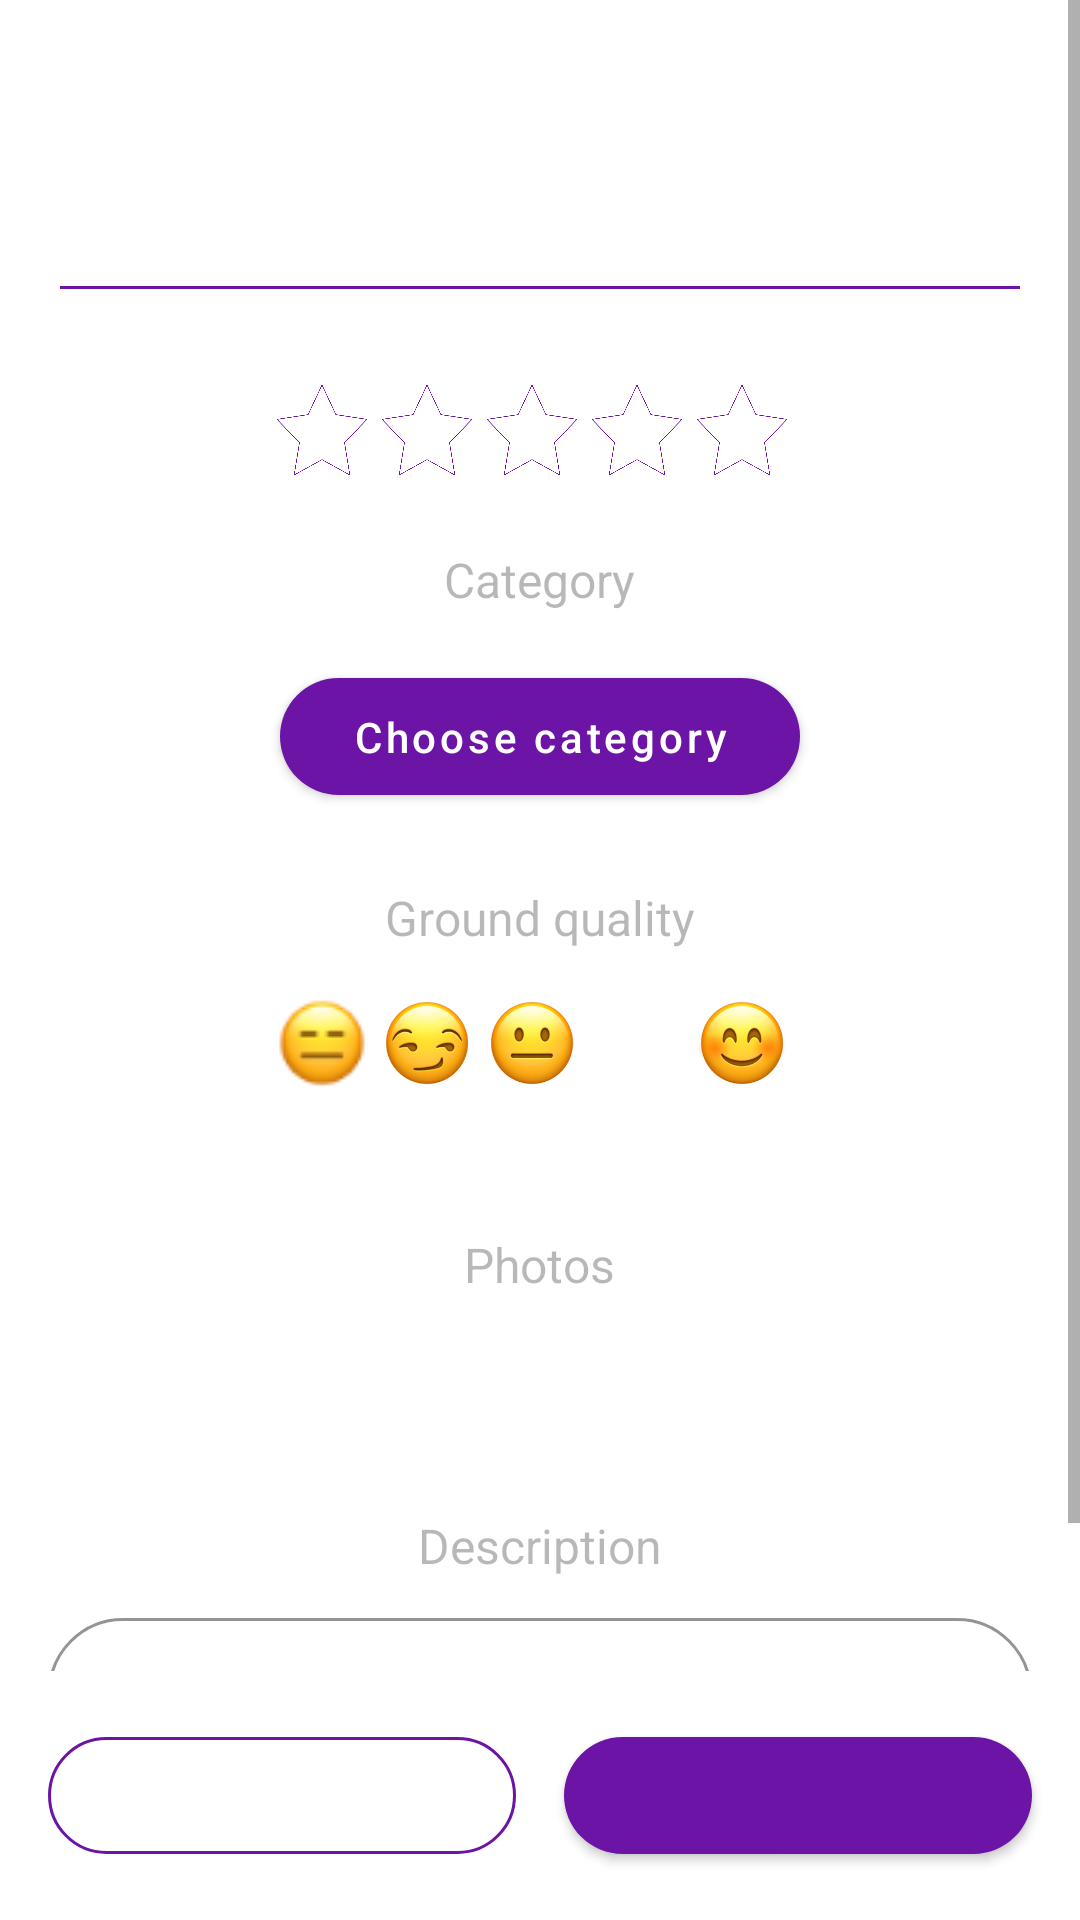

Icons on this 1080 x 1920 Android screen, each with its box as bbox=(x1, y1, x2, y2):
emoji neutral: bbox=(491, 1002, 573, 1084)
emoji smile: bbox=(700, 1002, 783, 1084)
emoji smirking: bbox=(386, 1002, 468, 1084)
emoji unhappy: bbox=(279, 1000, 365, 1086)
empty star: bbox=(277, 385, 367, 475), bbox=(382, 385, 472, 475), bbox=(487, 385, 577, 475), bbox=(592, 385, 682, 475), bbox=(697, 385, 787, 475)
